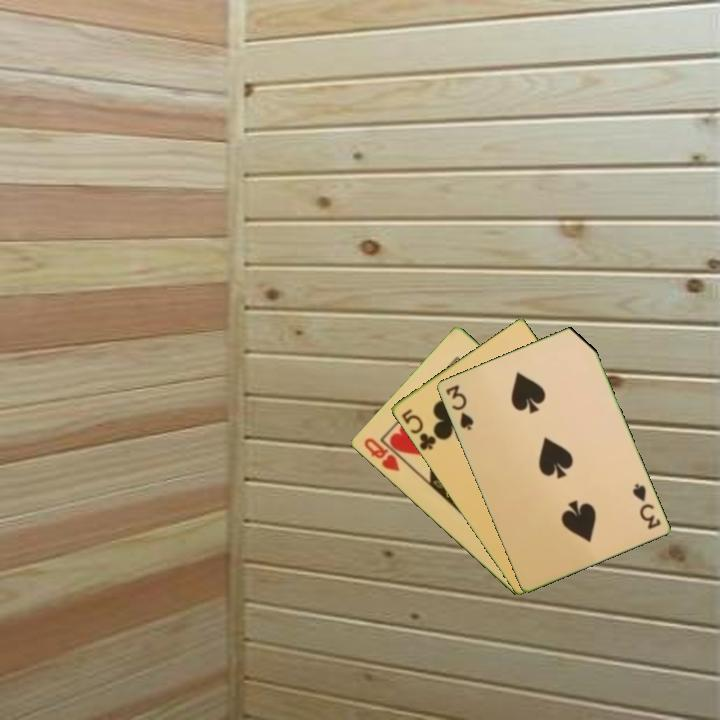3s: (628, 480, 663, 532), (442, 381, 476, 433)
5c: (398, 405, 441, 453)
Qh: (360, 434, 402, 474)
